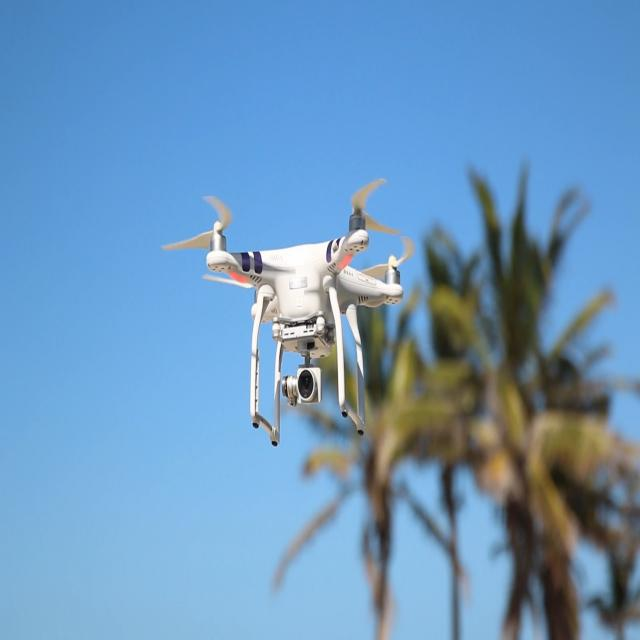Drone: (145, 160, 444, 432)
